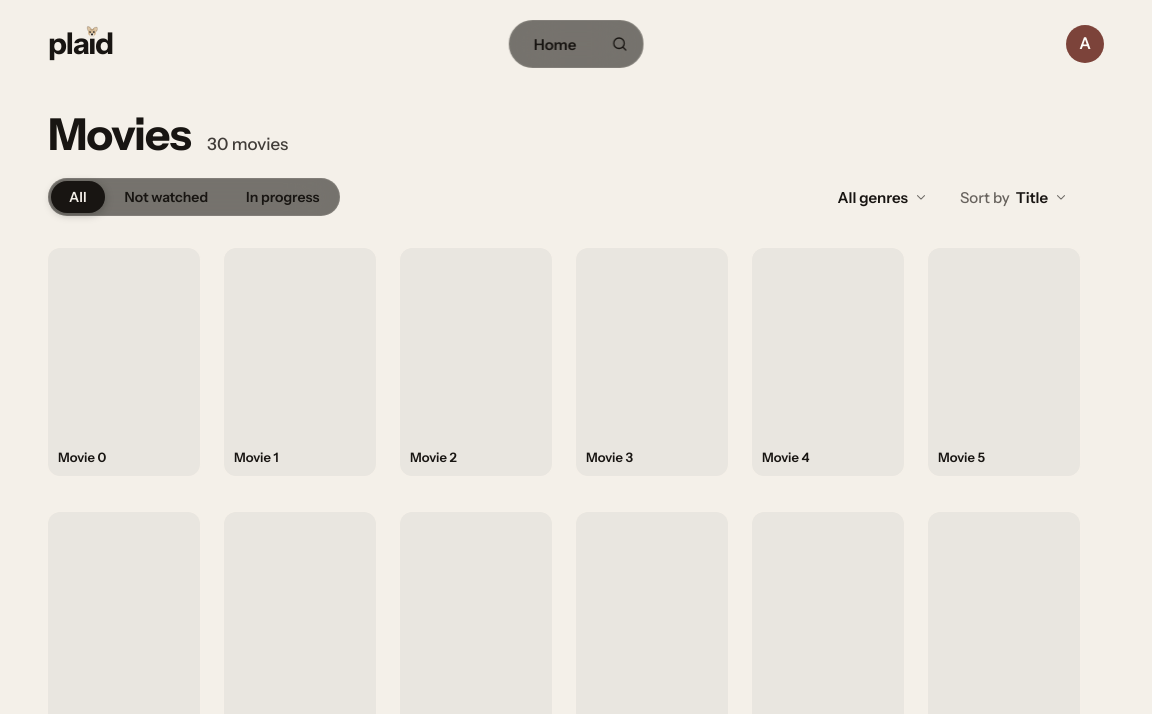
Test case: library grid › filters with the segmented control and sorts from the menu
Expected: the text "30 movies" is shown, [207,136,288,153]
Click the radio button labelled "Not watched" at x=166, y=197, box [106,181,226,213]
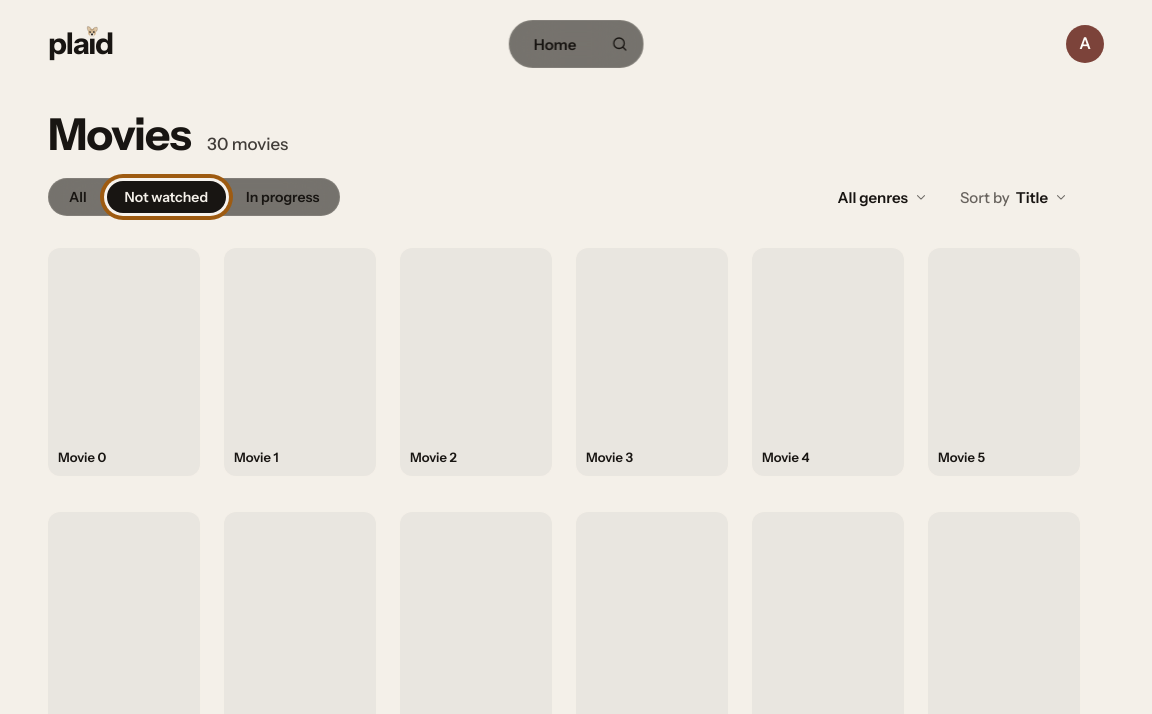
Expected: the radio button labelled "Not watched" is checked, [106,181,226,213]
Click the button with aria-label "Sort: Title" at x=1014, y=197, box [948,178,1080,216]
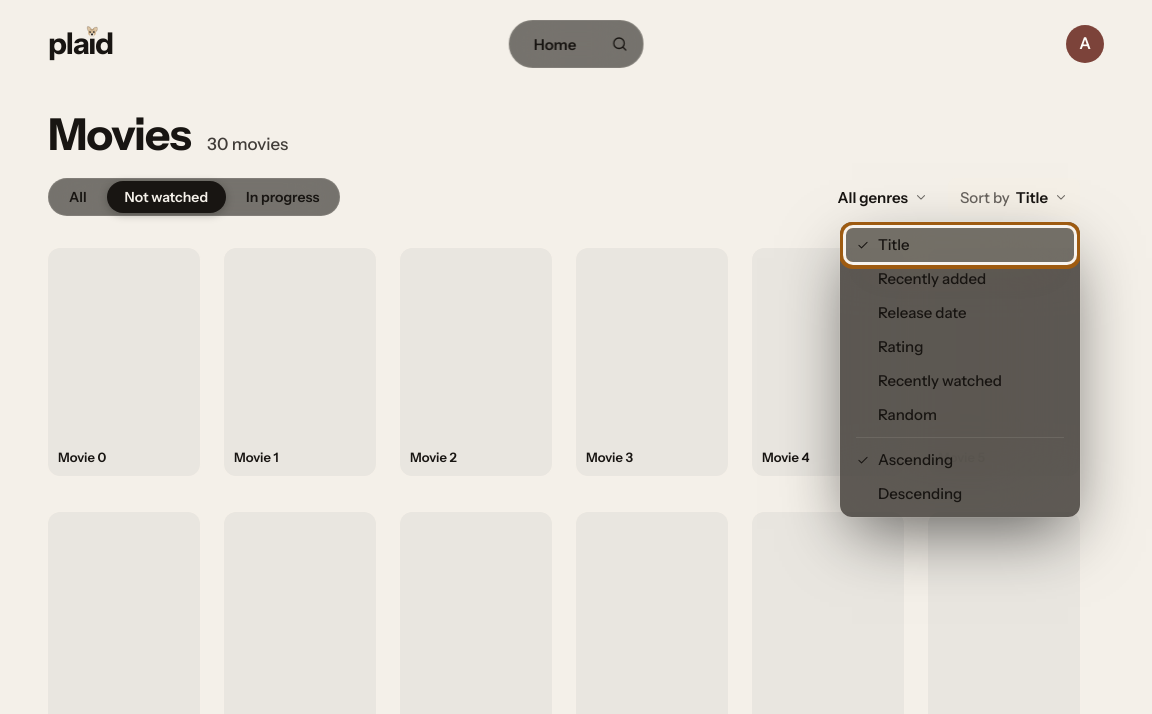
Click the menu item "Release date" at x=960, y=313, box [846,296,1074,330]
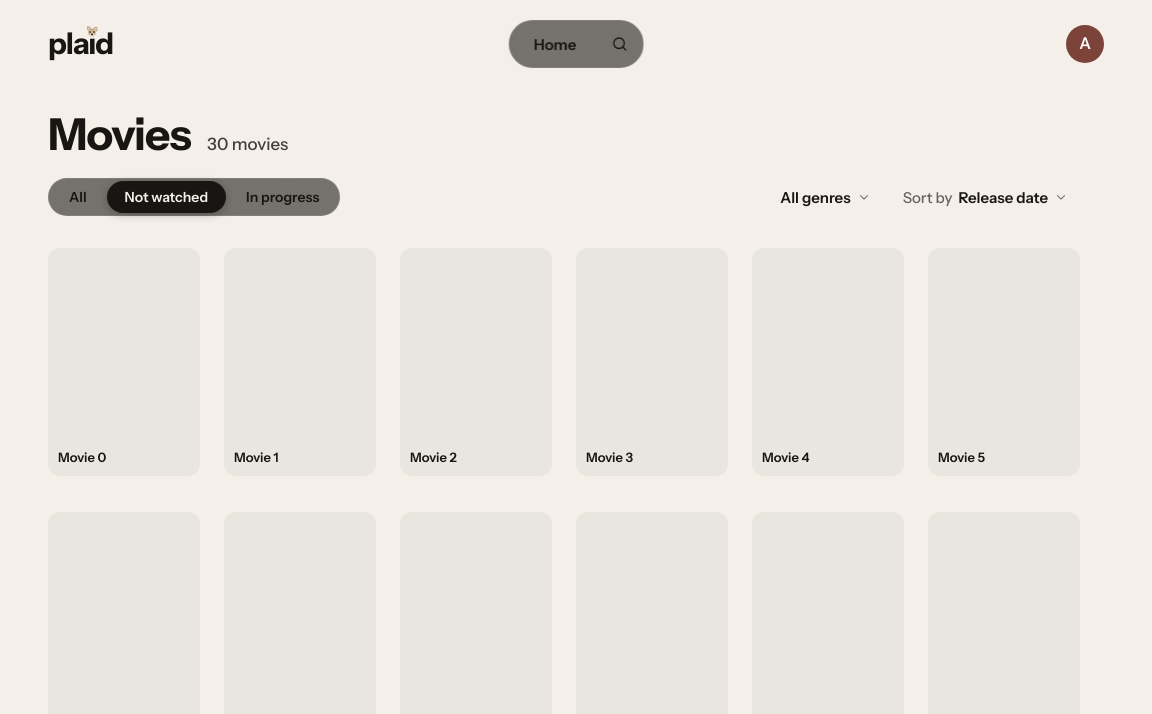
Expected: the button with aria-label "Sort: Release date" is shown, [891,178,1080,216]
Expected: the menu is gone
